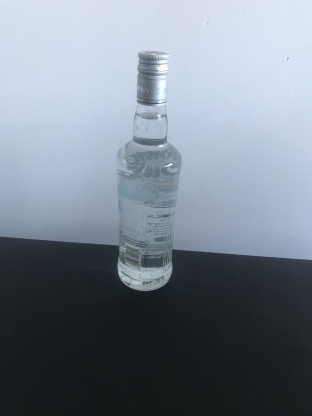nakretka: (135, 48, 171, 107)
